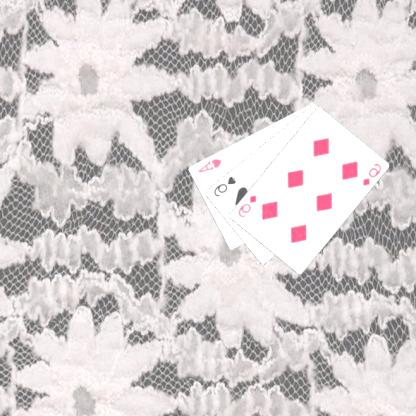6D: (237, 192, 260, 219), (361, 161, 384, 187)
6S: (212, 173, 239, 198)
AH: (197, 155, 225, 174)
